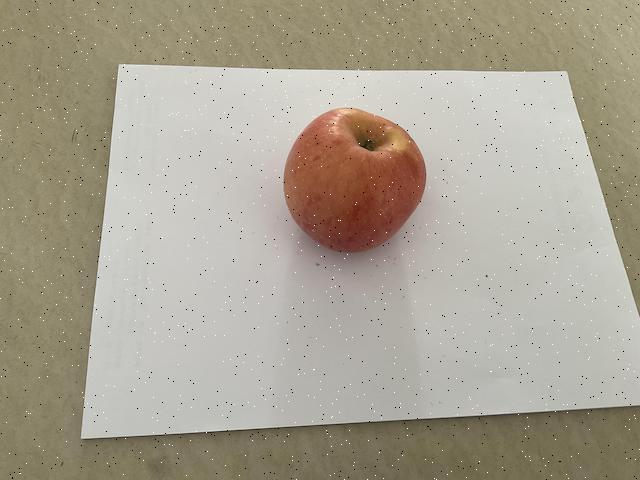apple: (278, 98, 431, 255)
